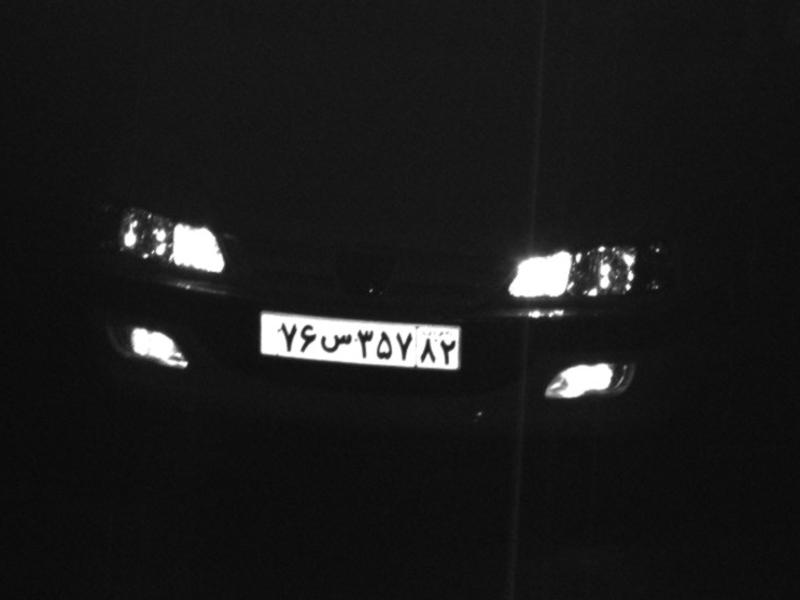Plate: (262, 309, 461, 373)
